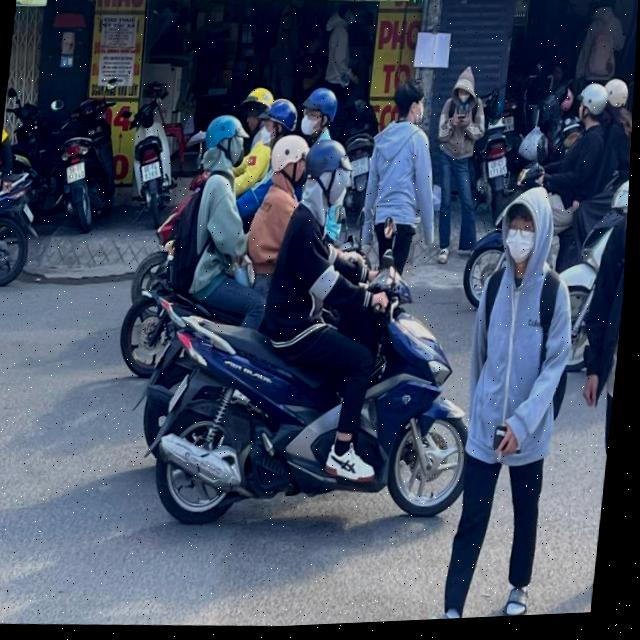motorcycle: (144, 238, 485, 546), (43, 82, 126, 240), (116, 87, 186, 232), (0, 159, 45, 295), (473, 138, 513, 199)
plate: (134, 156, 168, 186), (481, 153, 511, 182), (61, 157, 91, 186)
